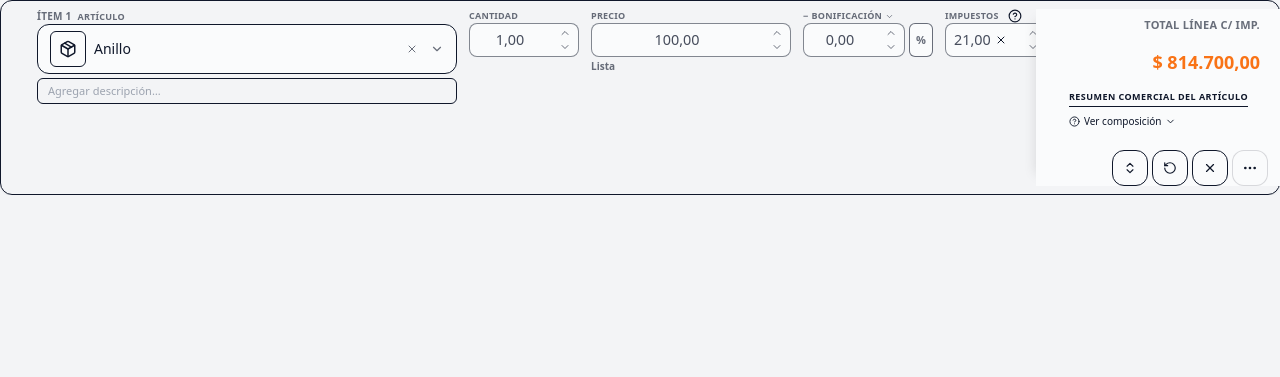
Test: FASE 1 — Resumen Comercial lee lineCommercialSummary › MONETARIO Unificada: redondeo = appliedRounding.unitAdjustment (19,86), NO metal/hechura
Click the button "Ver composición".
click(1123, 122)  # box top-left (1069, 115), bottom-right (1176, 128)
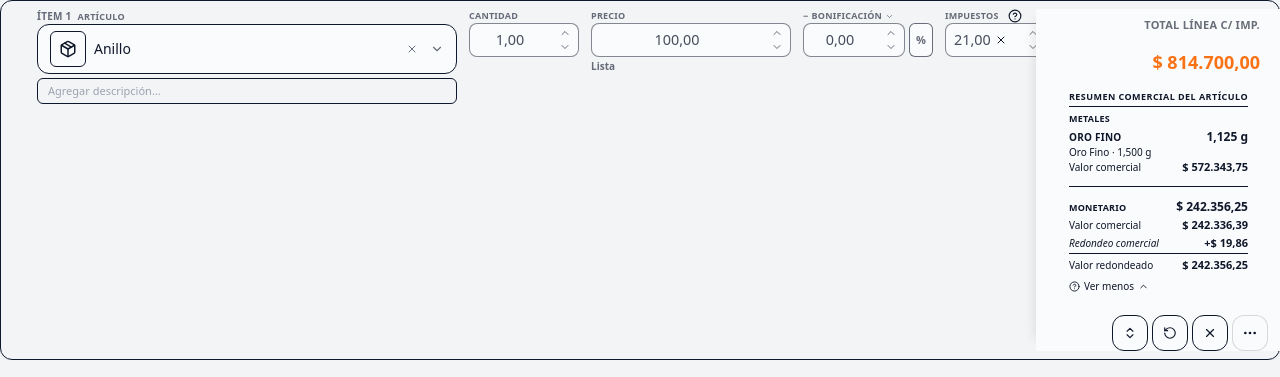
Check: the element showing "Redondeo comercial +$ 19,86" is shown, box top-left (1069, 236), bottom-right (1248, 249)
Check: the element showing "Valor comercial $ 242.336,39" is shown, box top-left (1069, 218), bottom-right (1248, 232)
Check: the element showing "Valor redondeado $ 242.356,25" is shown, box top-left (1069, 253), bottom-right (1248, 272)
